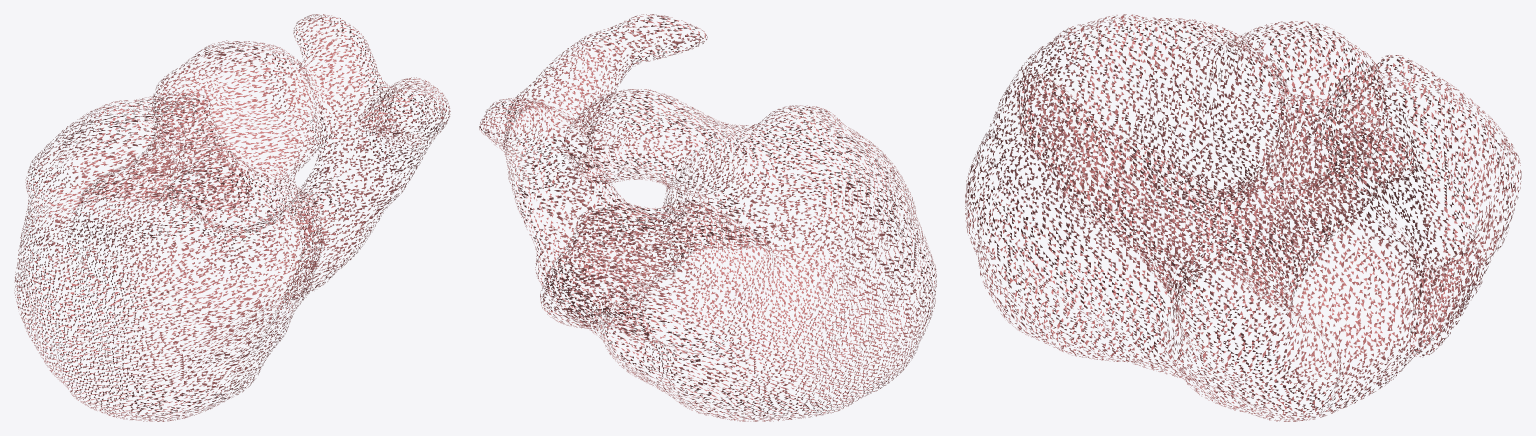
File: heart.glb
The picture shows the model from 3 angles, left to right: view 1: azimuth 30°, elevation 25°; view 2: azimuth 150°, elevation 25°; view 3: azimuth 270°, elevation 25°; orthographic projection. The views are drawn at different scales.
Size of the model in its own units: 147 by 105 by 130.
